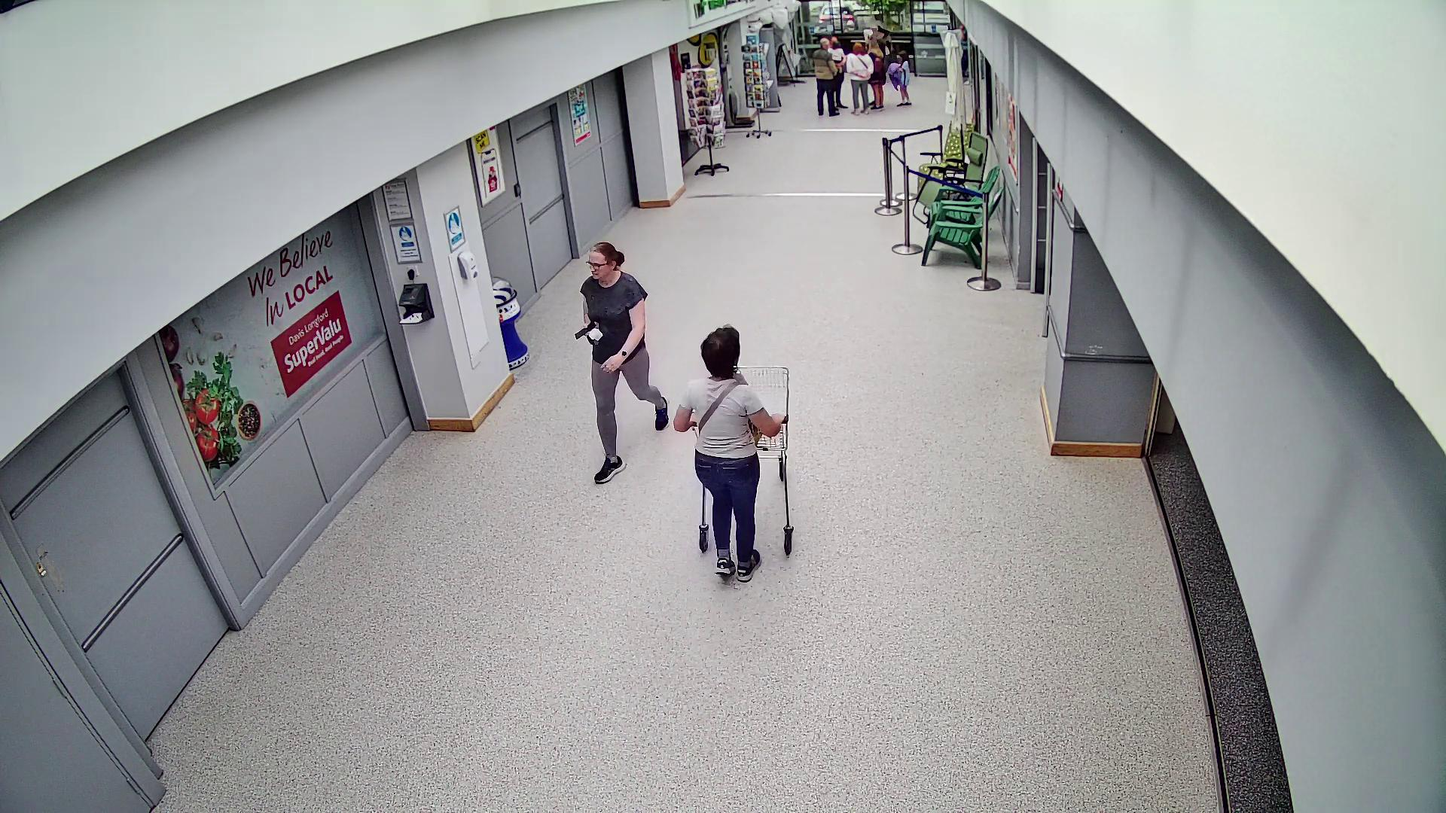empty-trolly: (699, 366, 794, 557)
person: (674, 324, 785, 581)
